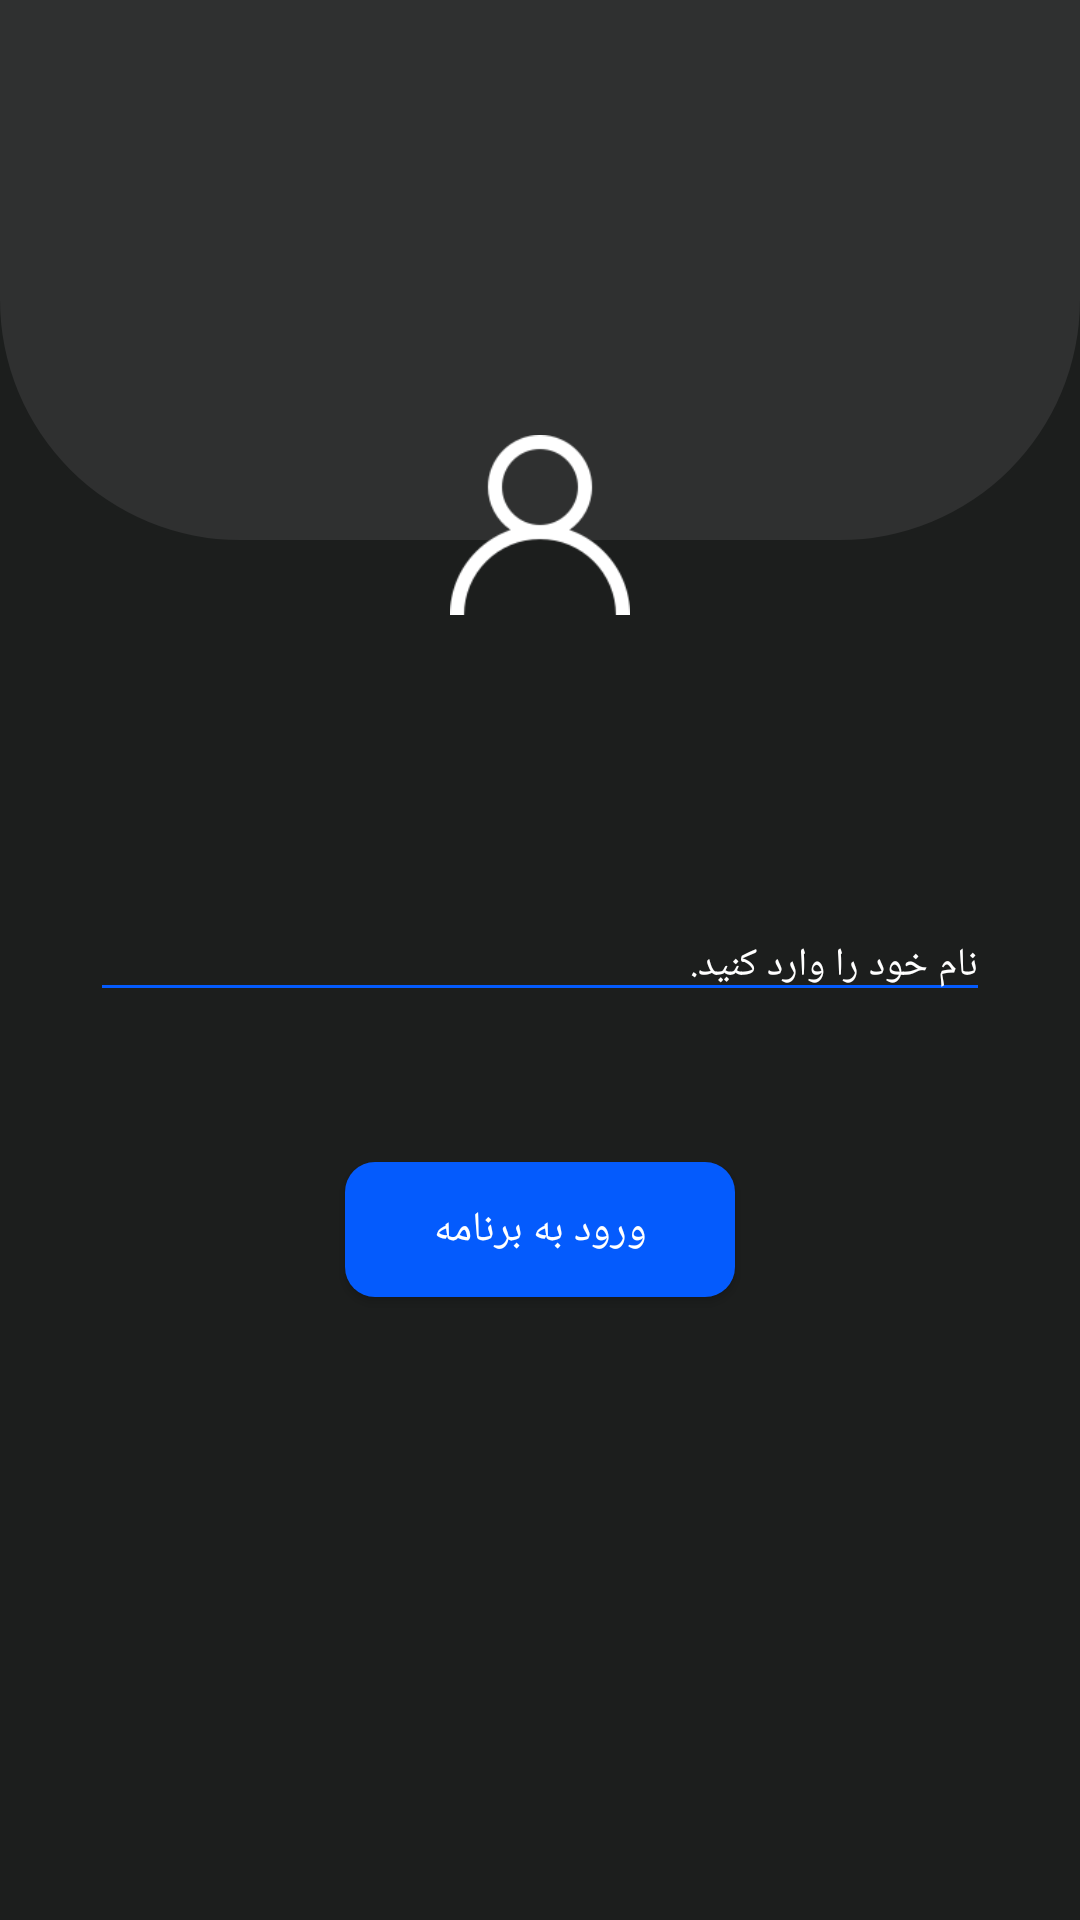

Icons on this 1080 x 1920 Android screen, each with its box as (x1, y1, x2, y2):
user: (450, 435, 630, 615)
